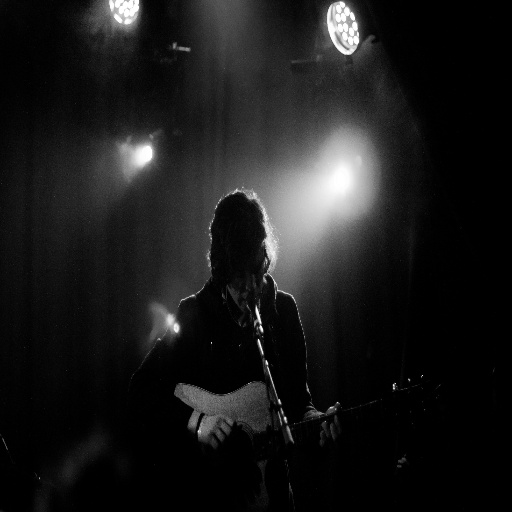hand: (185, 391, 241, 458), (317, 398, 341, 450)
